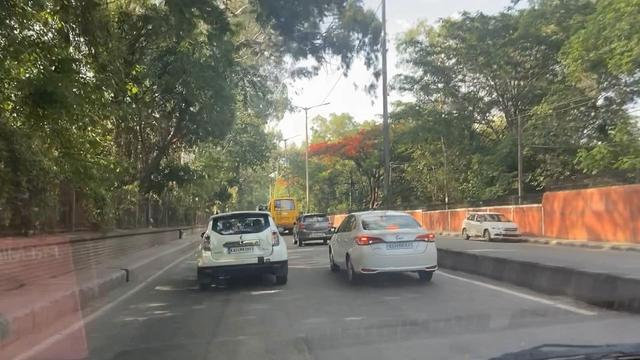LMV: (335, 213, 438, 281), (197, 215, 288, 283), (294, 212, 331, 240)
RoadDamages: (113, 336, 323, 360)
